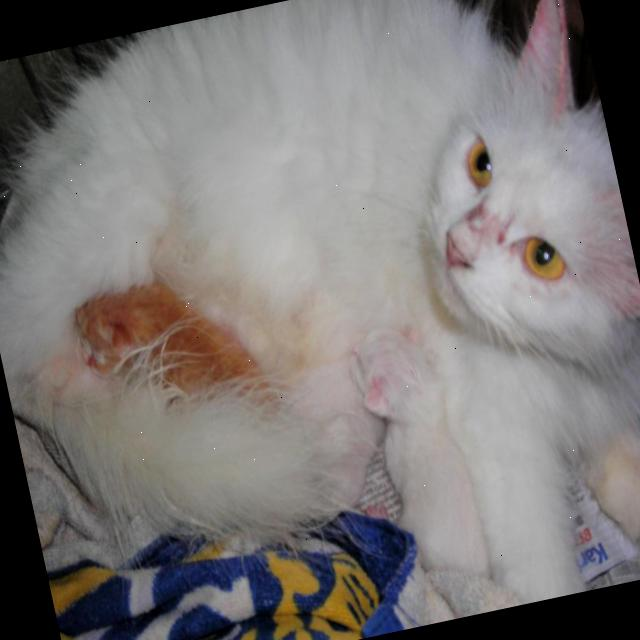cat-lump-and-bump: (462, 200, 516, 254)
